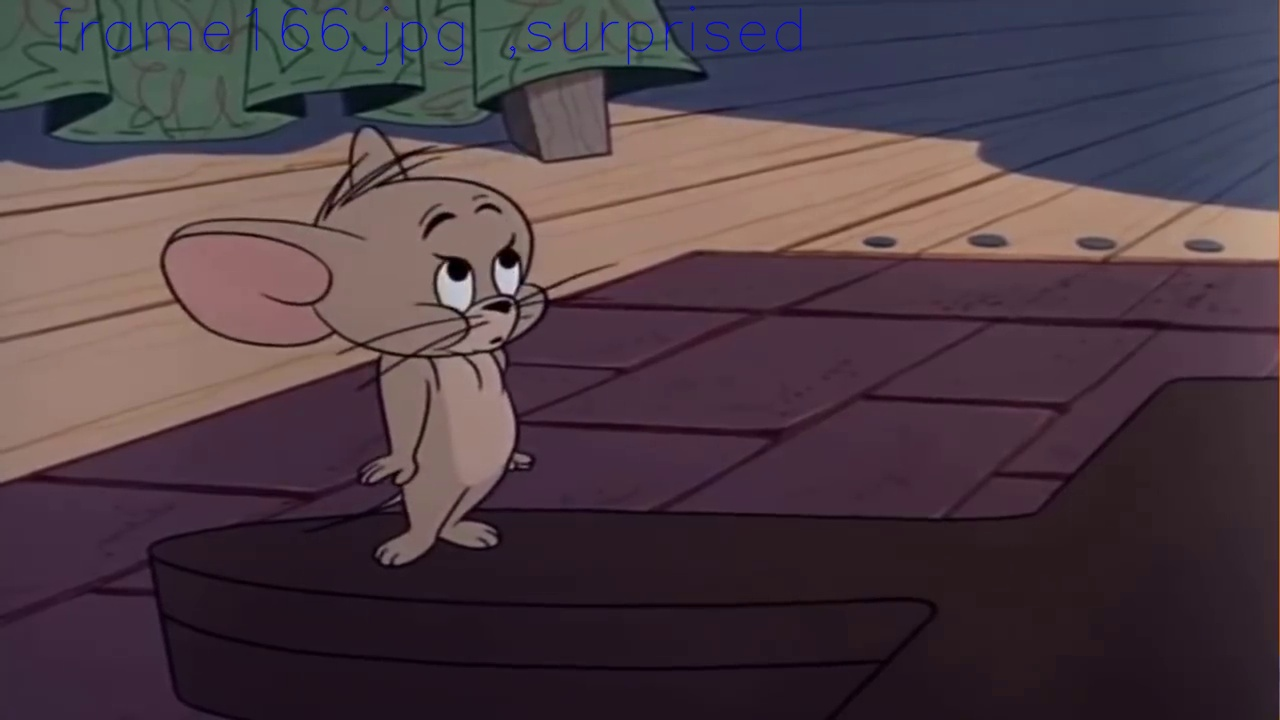surprised: (421, 190, 524, 355)
